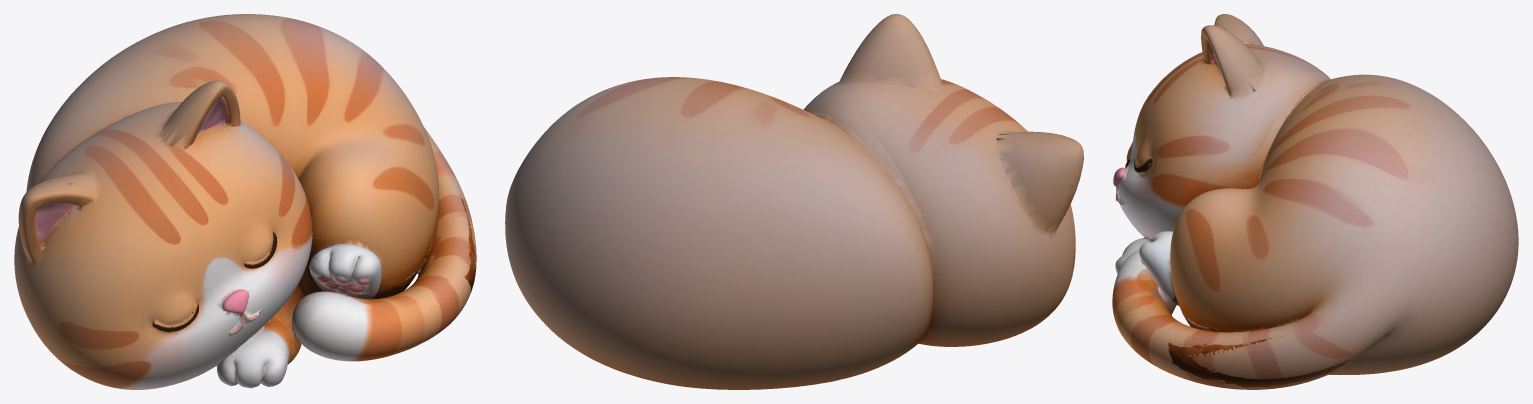
The model's file is cat.glb.
3 views of the same model, side by side, from view 1: azimuth 30°, elevation 25°; view 2: azimuth 150°, elevation 25°; view 3: azimuth 270°, elevation 25° (orthographic). The views are drawn at different scales.
Parts seen in each view (by area): view 1: lo; view 2: lo; view 3: lo.
Part boxes in pixels (x1=…): lo: x1=14, y1=14, x2=476, y2=389; lo: x1=505, y1=14, x2=1083, y2=389; lo: x1=1112, y1=14, x2=1518, y2=389.
Bounding box in the file's own units: 1.11 × 0.6179 × 0.8824.
1 material, 1 textured.
